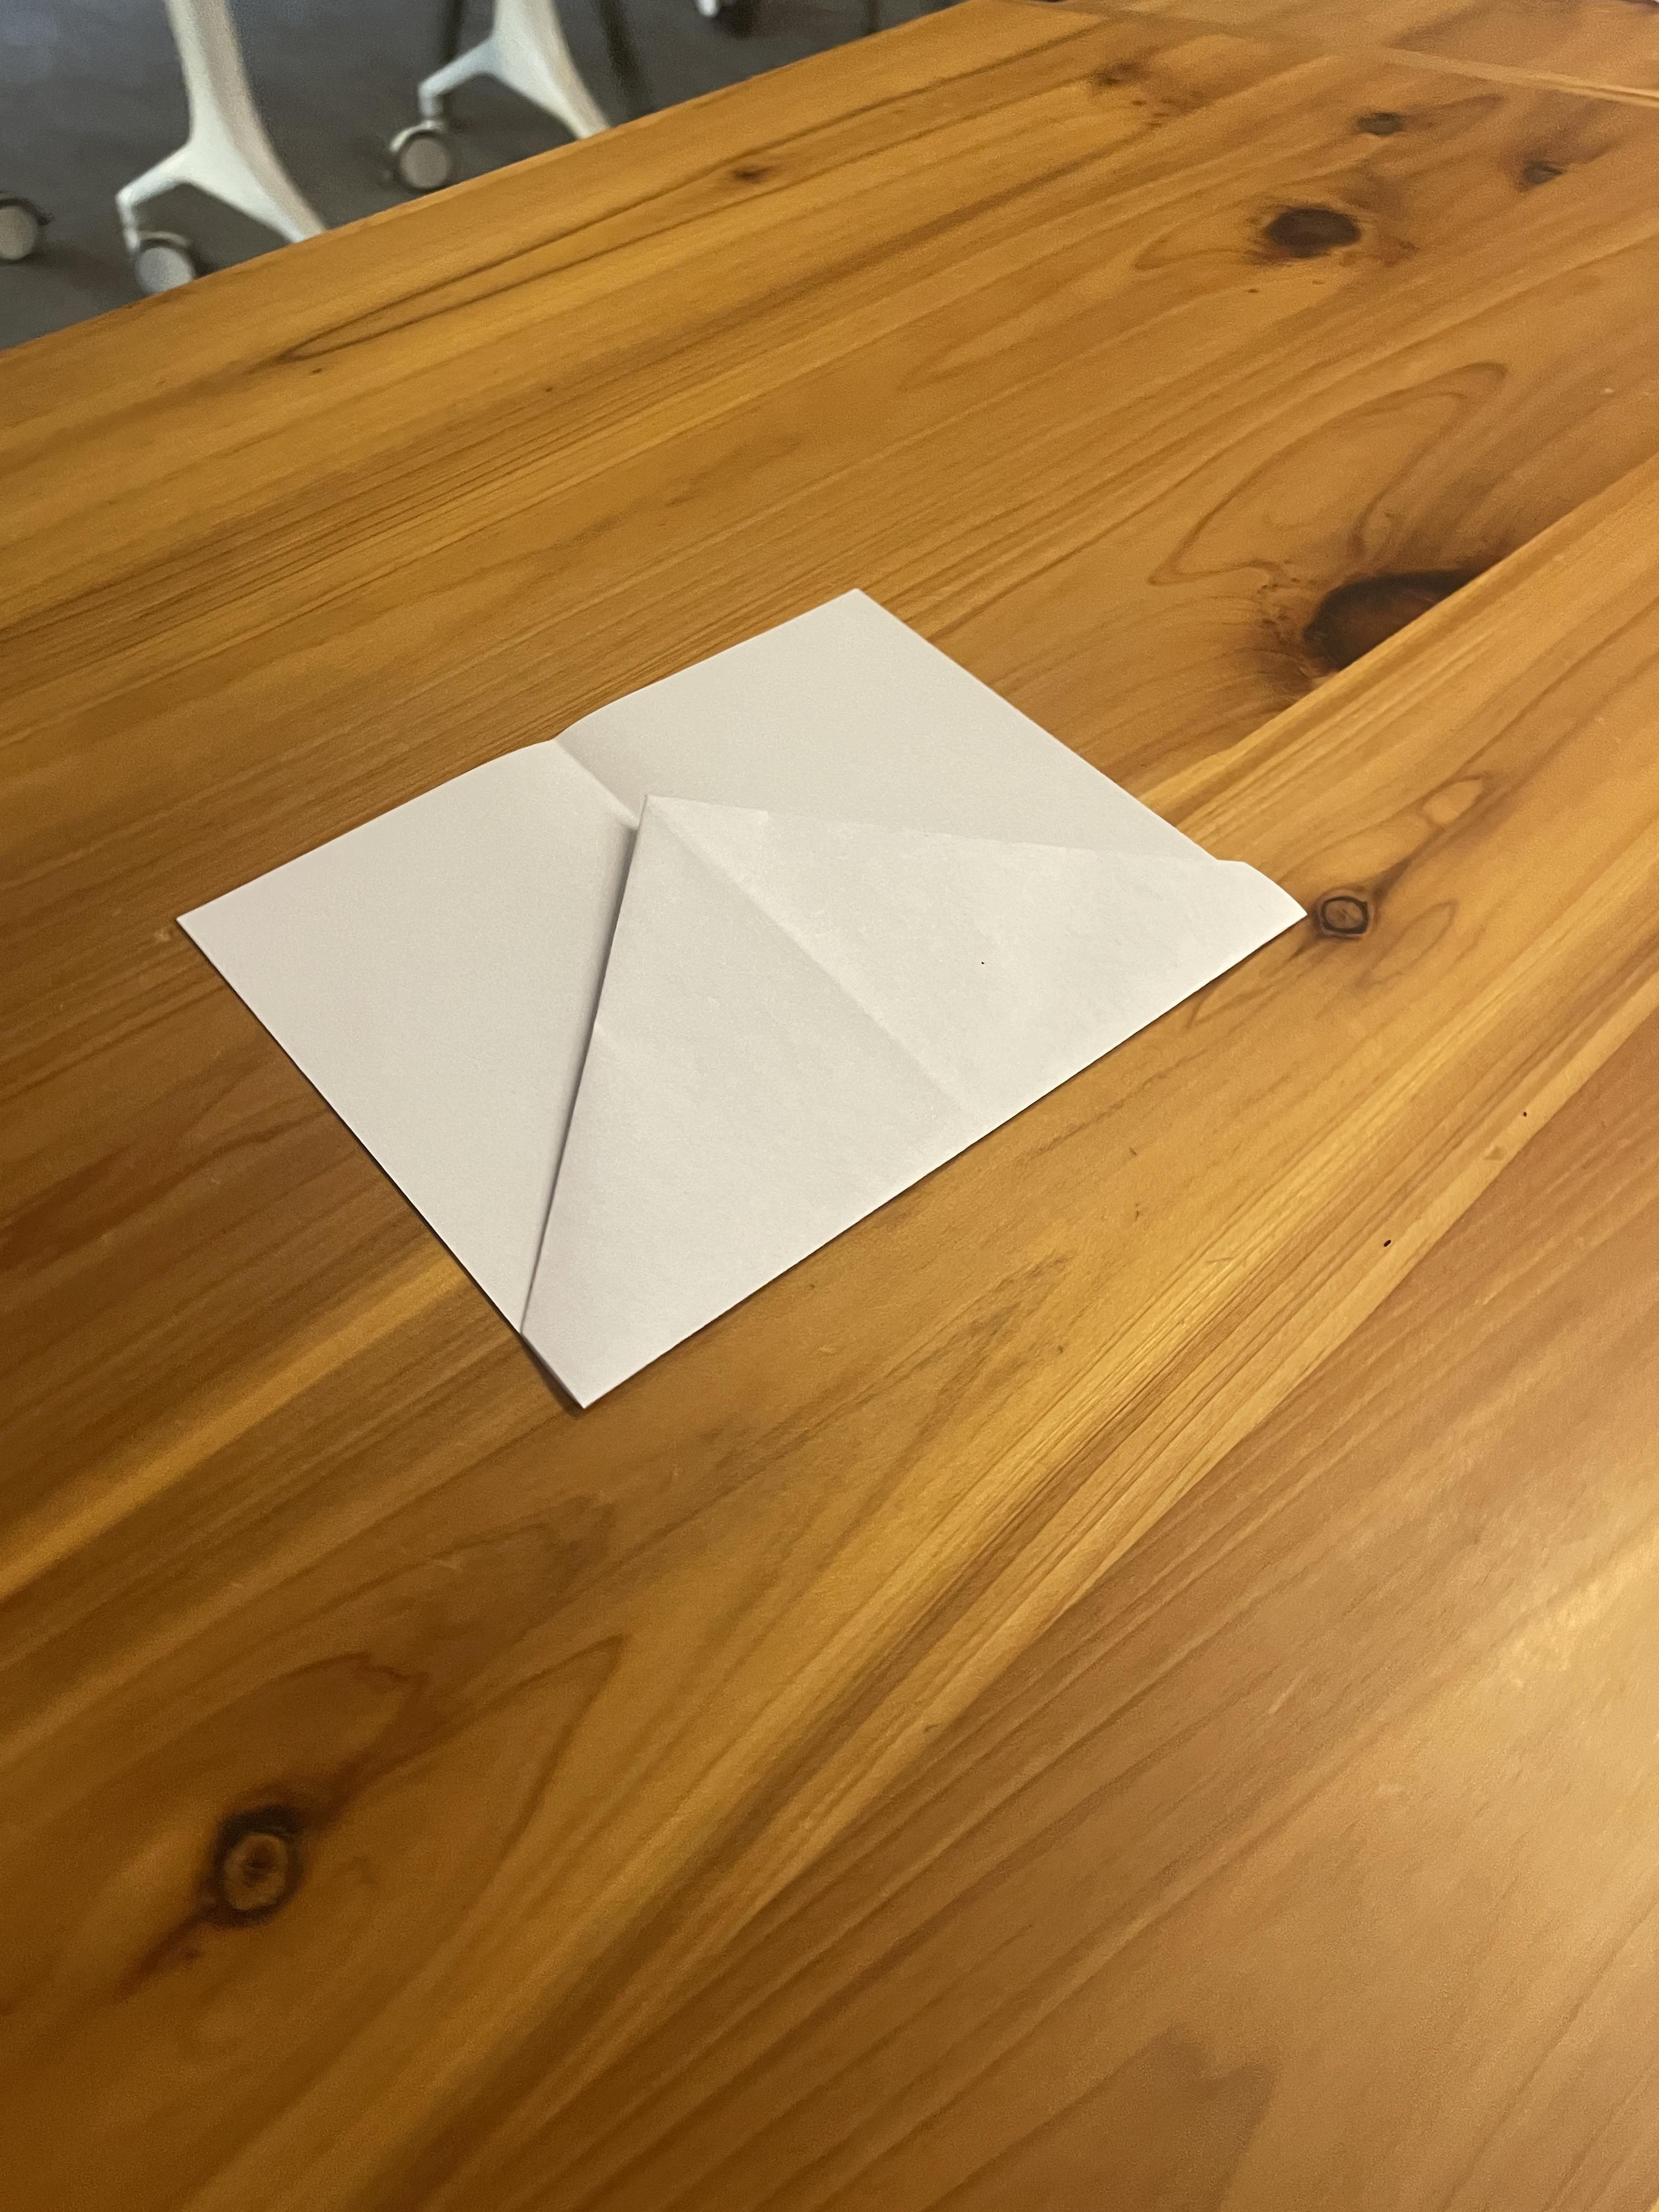shape_1: (38, 408, 1417, 1437)
